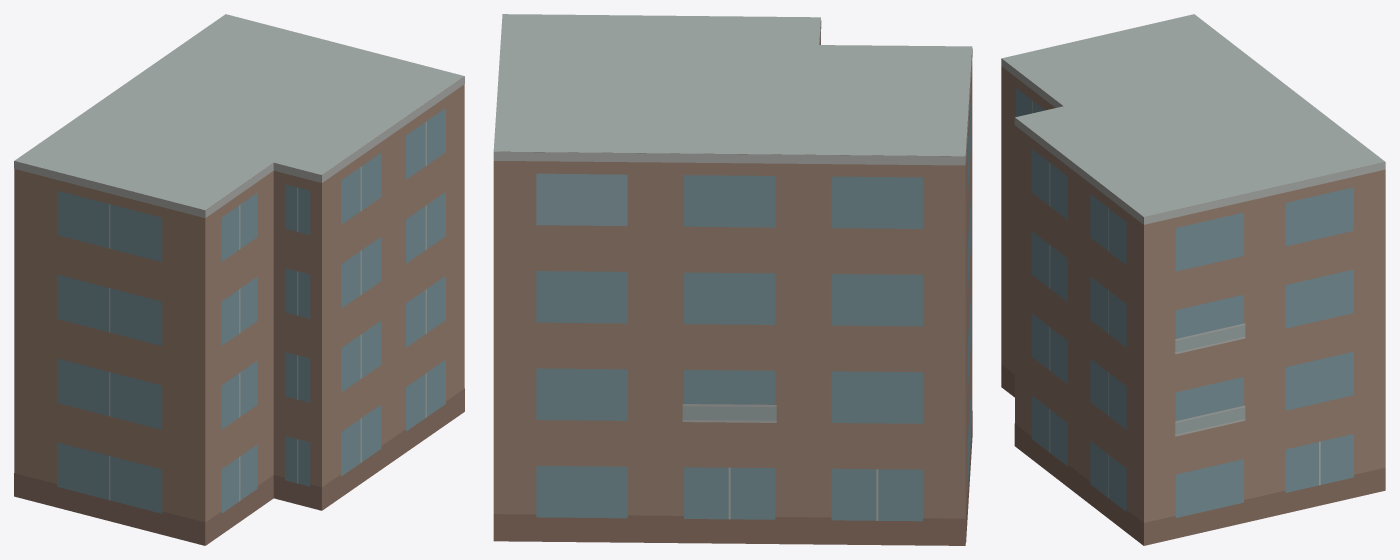
File: survey-upis-32834814.glb
3 renders of one model, left to right at view 1: azimuth 30°, elevation 25°; view 2: azimuth 150°, elevation 25°; view 3: azimuth 270°, elevation 25°, orthographic. The views are drawn at different scales.
Parts seen in each view (by area): view 1: survey-upis-32834814.tmp; view 2: survey-upis-32834814.tmp; view 3: survey-upis-32834814.tmp.
Boxes of the visible parts, left/top/right/bottom form: survey-upis-32834814.tmp: left=14, top=14, right=464, bottom=545; survey-upis-32834814.tmp: left=493, top=14, right=972, bottom=545; survey-upis-32834814.tmp: left=1001, top=14, right=1385, bottom=545.
Bounding box in the file's own units: 13.65 × 10.3 × 10.91.
